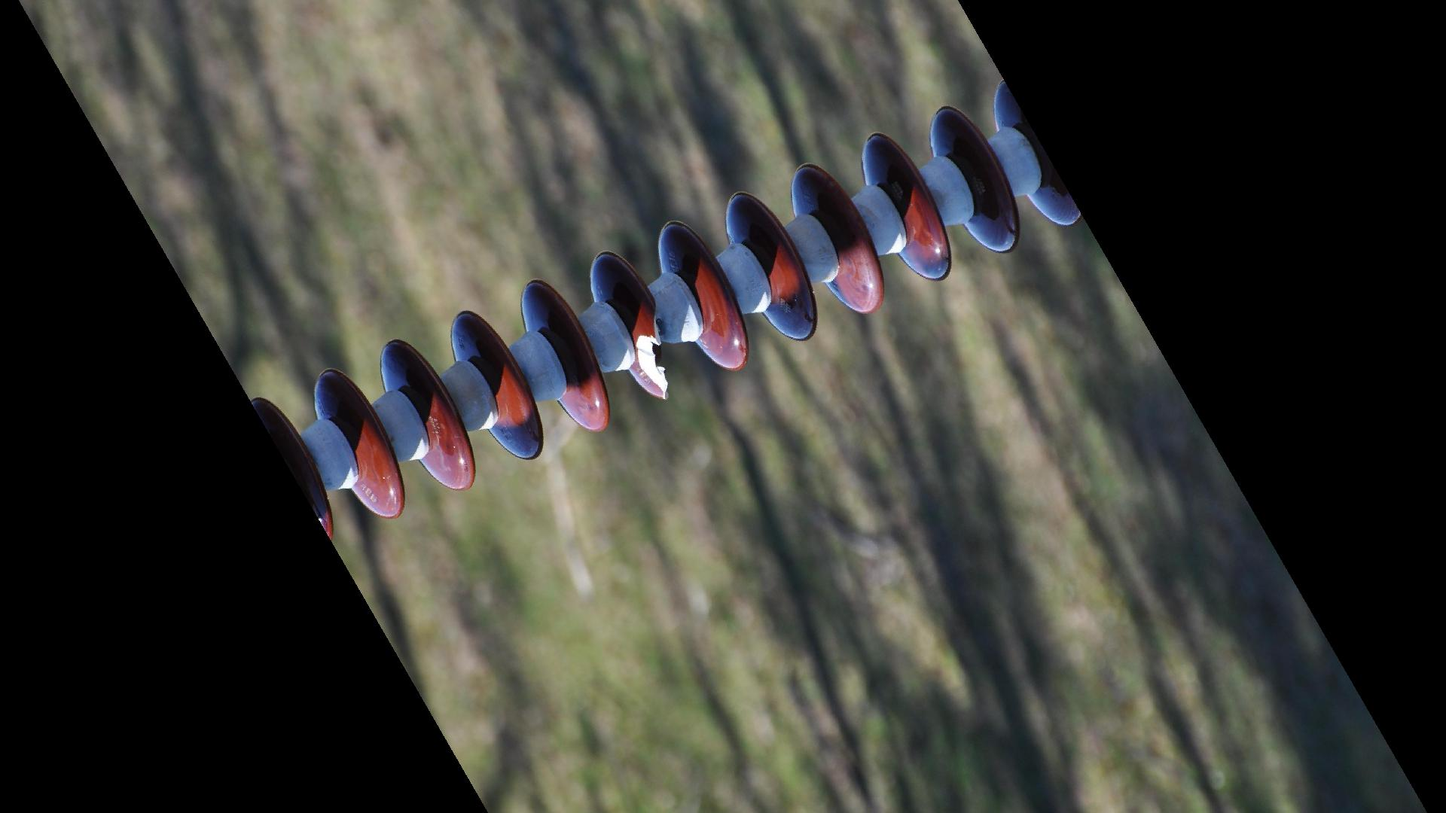insulator: (252, 75, 1087, 529)
insulator_breakage: (630, 294, 679, 413)
